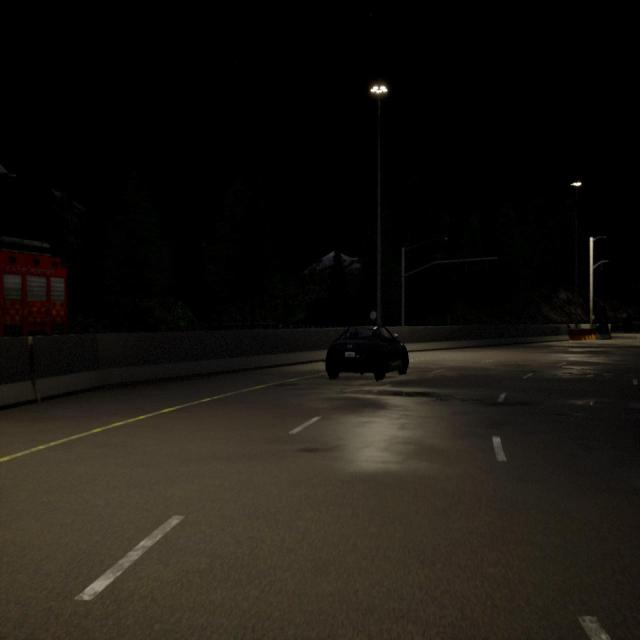Traffic_Signs: (371, 311, 376, 319)
Vehicle: (0, 240, 68, 334), (326, 325, 410, 381)
